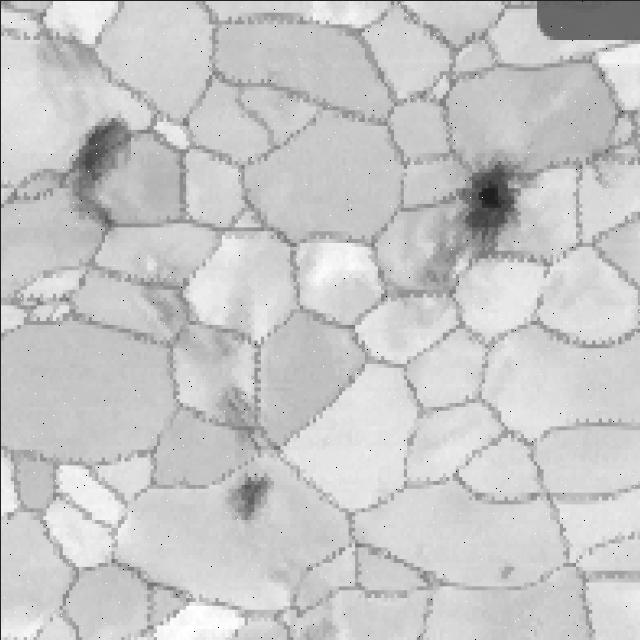good_void: (398, 155, 529, 290), (56, 117, 138, 230), (215, 383, 290, 459), (223, 459, 274, 534), (493, 558, 517, 586)
